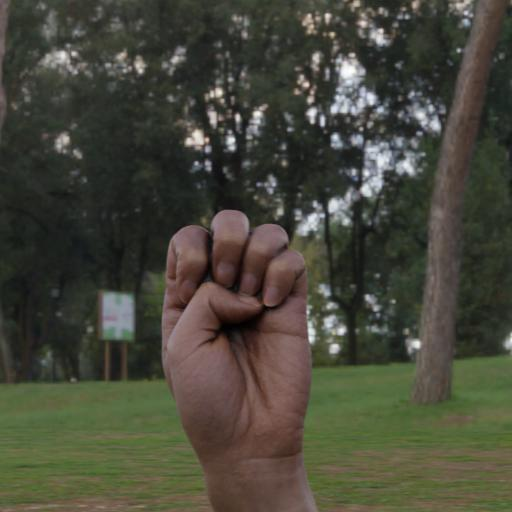E: (151, 206, 322, 470)
